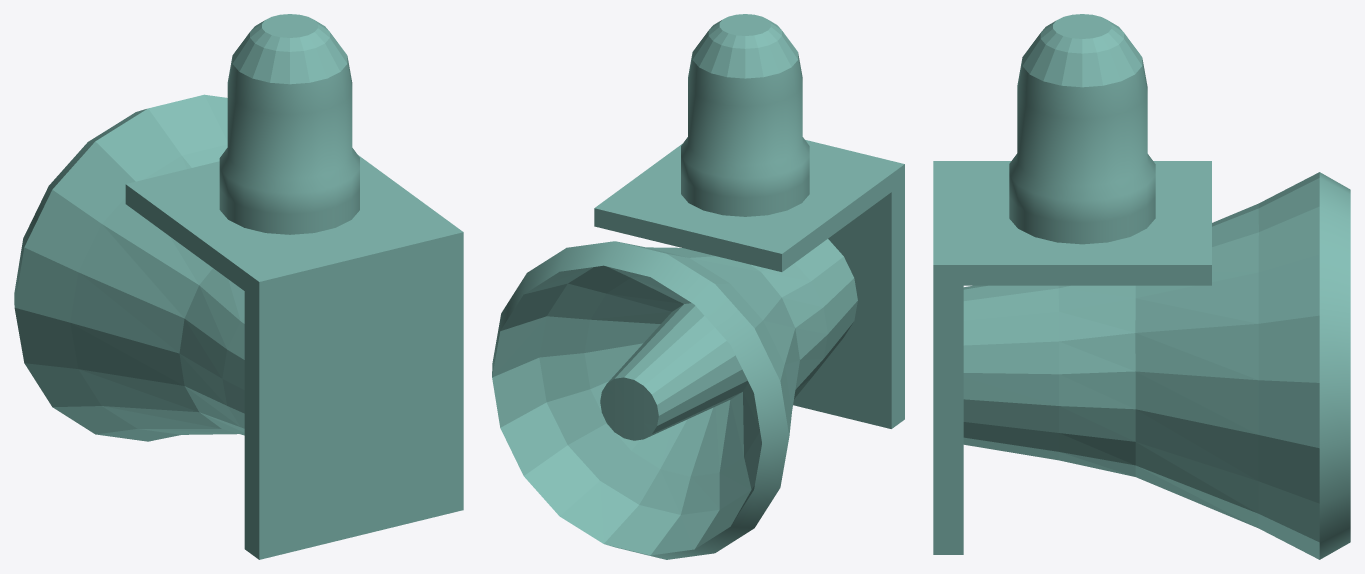
Rendered from WallAlarm.glb.
3 renders of one model, left to right at view 1: azimuth 30°, elevation 25°; view 2: azimuth 150°, elevation 25°; view 3: azimuth 270°, elevation 25°, orthographic. The views are drawn at different scales.
Visible parts, largest first — view 1: Cylinder006; view 2: Cylinder006; view 3: Cylinder006.
Part boxes in pixels (x1=…): Cylinder006: x1=14, y1=14, x2=463, y2=559; Cylinder006: x1=492, y1=14, x2=904, y2=559; Cylinder006: x1=933, y1=14, x2=1350, y2=559.
Size of the model in its own units: 0.3848 by 0.5596 by 0.4125.
